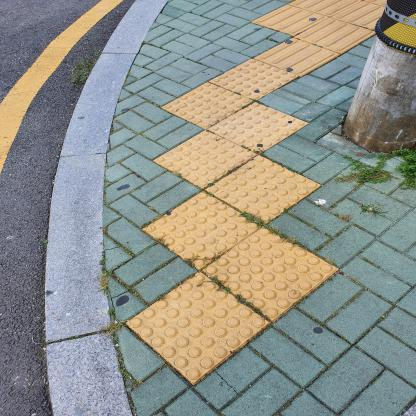podotacti: (123, 0, 345, 388)
